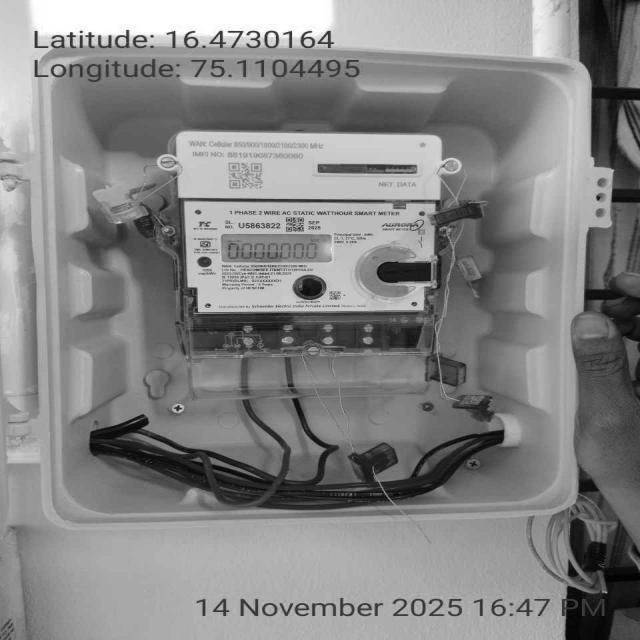meter: (175, 128, 448, 314)
